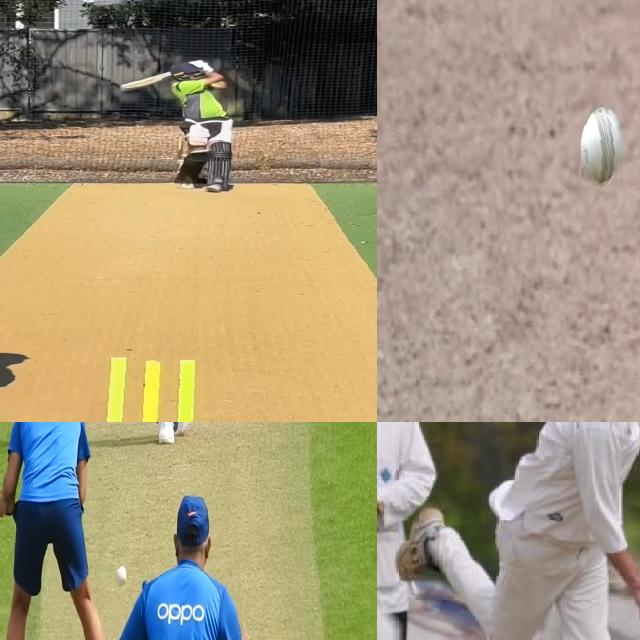Cricket ball: (582, 102, 626, 186), (116, 561, 130, 590)
Stumps: (89, 349, 223, 422)
